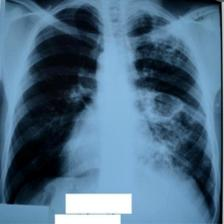tuberculosis: (1, 1, 218, 224)
